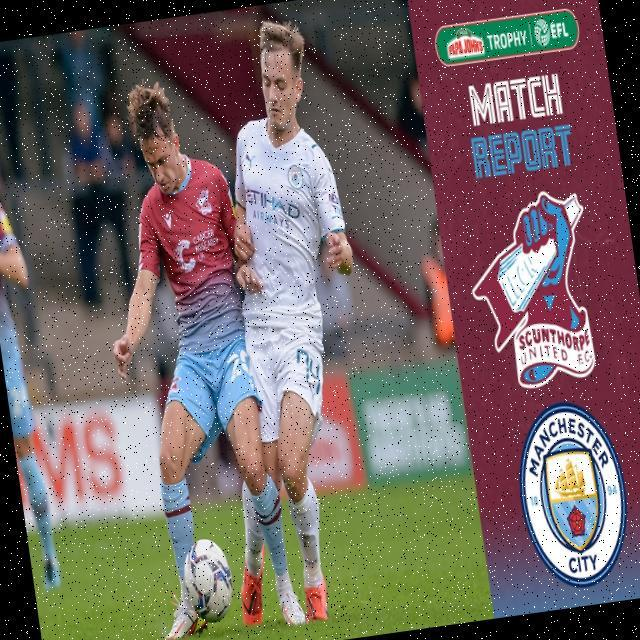Etihad Airways: (246, 181, 303, 234)
Puma: (307, 380, 318, 405), (245, 153, 257, 170)
